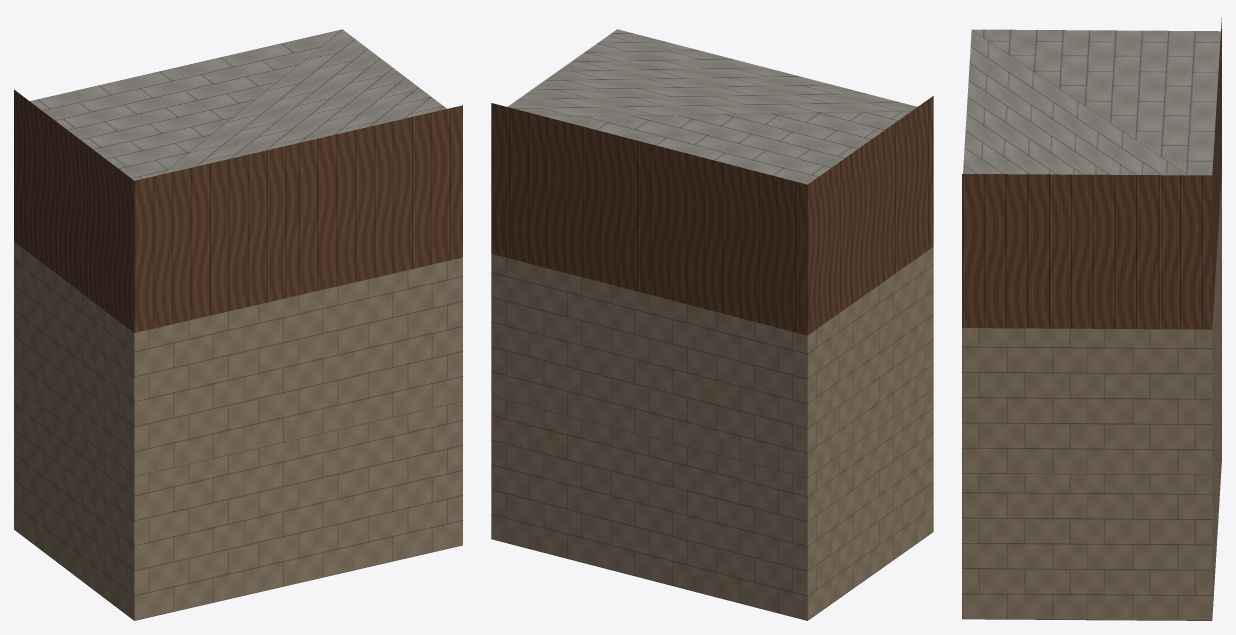
The model's file is bld_c41_-2_582.gltf.
3 renders of one model, left to right at view 1: azimuth 30°, elevation 25°; view 2: azimuth 150°, elevation 25°; view 3: azimuth 270°, elevation 25°, orthographic. The views are drawn at different scales.
Parts seen in each view (by area): view 1: bld_c41_-2_582; view 2: bld_c41_-2_582; view 3: bld_c41_-2_582.
Part boxes in pixels (left/top/right/bottom): bld_c41_-2_582: left=14, top=29, right=462, bottom=620; bld_c41_-2_582: left=491, top=29, right=933, bottom=620; bld_c41_-2_582: left=962, top=17, right=1221, bottom=620.
Bounding box in the file's own units: 5.35 × 6.88 × 3.64.
4 materials, 4 textured.
